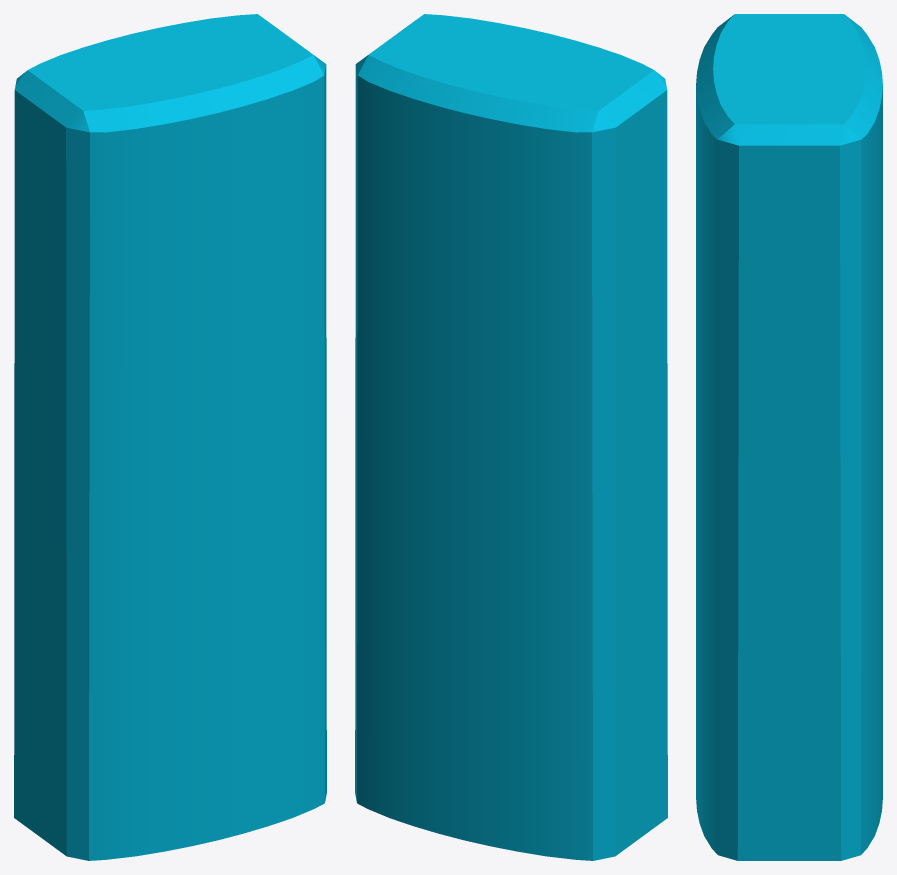
File: Building_02_Skyblue.fbx
3 views of the same model, side by side, from view 1: azimuth 30°, elevation 25°; view 2: azimuth 150°, elevation 25°; view 3: azimuth 270°, elevation 25° (orthographic).
Visible parts, largest first — view 1: Building02_Skyblue; view 2: Building02_Skyblue; view 3: Building02_Skyblue.
Part boxes in pixels (box(x1,y1,x2,y2)): Building02_Skyblue: box(14, 14, 326, 860); Building02_Skyblue: box(355, 14, 667, 860); Building02_Skyblue: box(696, 14, 882, 860).
Size of the model in its own units: 1435 by 3918 by 910.
